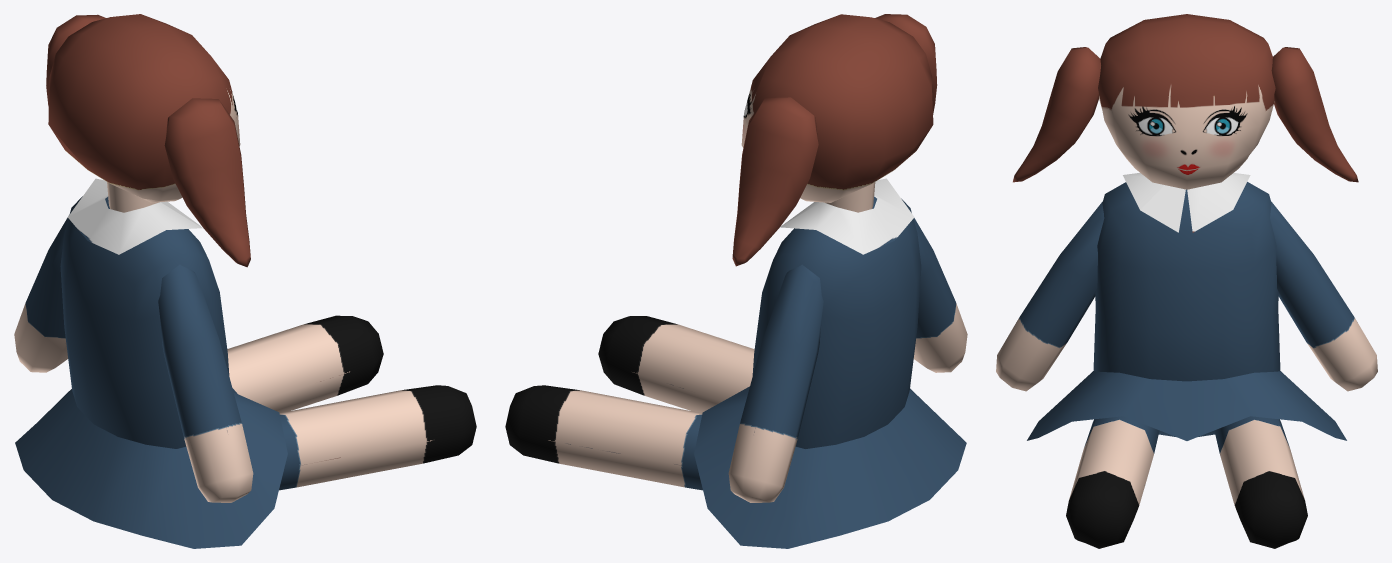
The model's file is S_Doll.fbx.
3 renders of one model, left to right at view 1: azimuth 30°, elevation 25°; view 2: azimuth 150°, elevation 25°; view 3: azimuth 270°, elevation 25°, orthographic. The views are drawn at different scales.
Parts seen in each view (by area): view 1: S_Doll; view 2: S_Doll; view 3: S_Doll.
Boxes of the visible parts, <box> form: S_Doll: <box>14,14,476,548</box>; S_Doll: <box>505,14,967,548</box>; S_Doll: <box>996,14,1377,548</box>.
Bounding box in the file's own units: 73.34 × 86.49 × 72.17.
